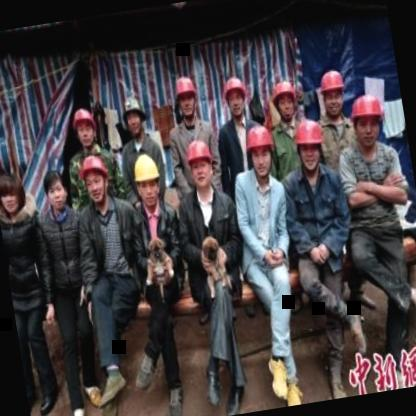helmet: (346, 92, 388, 149), (240, 119, 278, 181), (292, 114, 328, 177), (183, 138, 219, 196), (77, 152, 113, 207), (130, 152, 165, 204), (316, 68, 348, 120), (269, 76, 301, 124), (117, 93, 148, 139), (171, 72, 199, 122), (221, 74, 250, 120), (69, 106, 97, 148)
